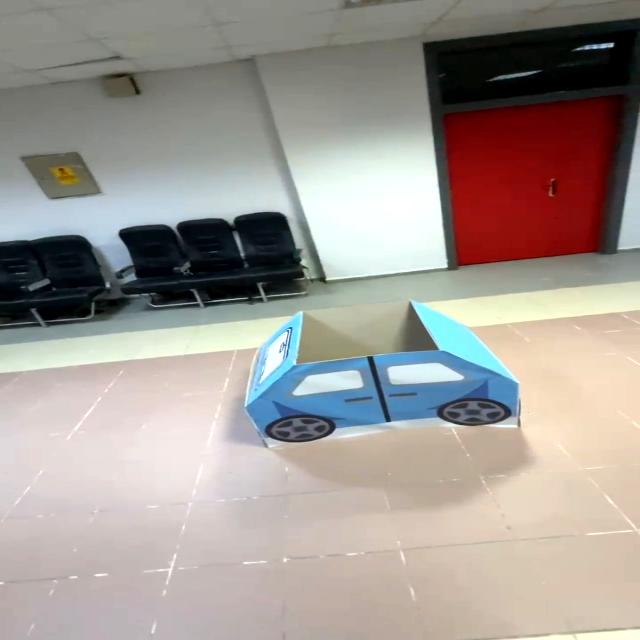blue_car: (215, 299, 549, 455)
